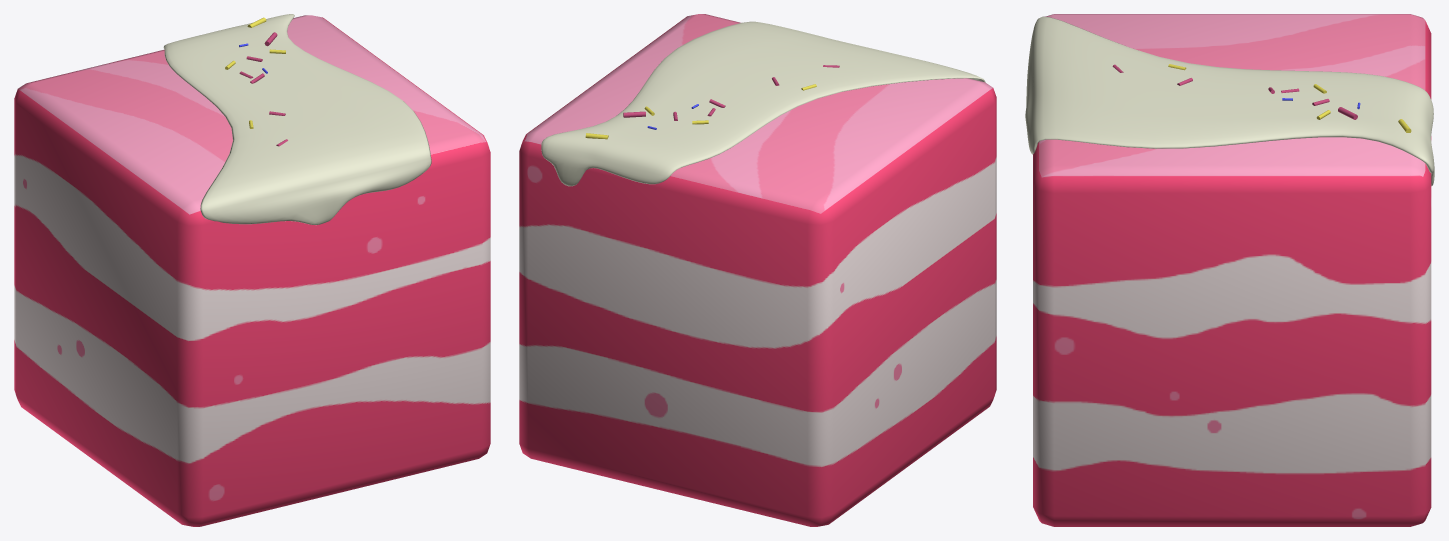
The model's file is Strawberry_1.fbx.
The picture shows the model from 3 angles, left to right: view 1: azimuth 30°, elevation 25°; view 2: azimuth 150°, elevation 25°; view 3: azimuth 270°, elevation 25°; orthographic projection. The views are drawn at different scales.
Visible parts, largest first — view 1: Cube, Plane; view 2: Cube, Plane; view 3: Cube, Plane.
Part boxes in pixels (x1=…): Cube: x1=14, y1=15, x2=490, y2=526; Plane: x1=163, y1=14, x2=431, y2=225; Cube: x1=519, y1=14, x2=996, y2=526; Plane: x1=541, y1=21, x2=985, y2=186; Cube: x1=1033, y1=14, x2=1431, y2=526; Plane: x1=1025, y1=16, x2=1434, y2=186.
Bounding box in the file's own units: 200 × 210 × 206.
